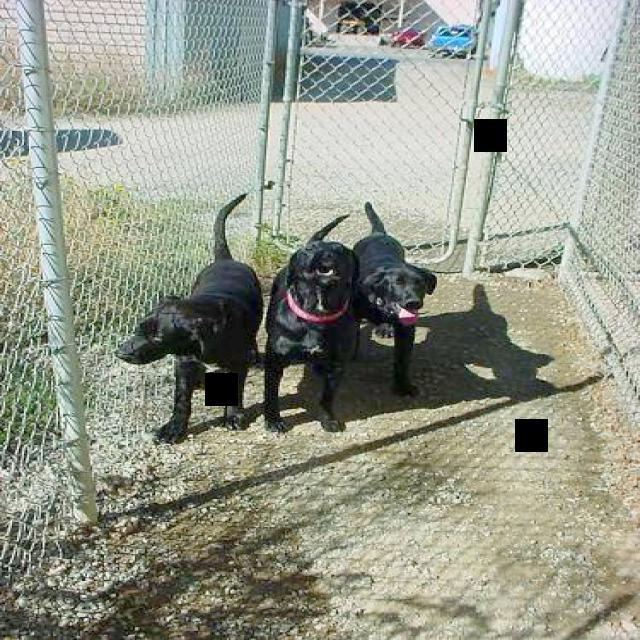adult_dog: (110, 187, 265, 443), (263, 207, 356, 437), (349, 200, 440, 397)
